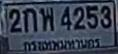2: (8, 8, 20, 32), (73, 6, 84, 29)
3: (100, 5, 111, 28)
4: (60, 6, 70, 30)
5: (85, 5, 97, 28)
A01: (22, 7, 36, 32)
A30: (39, 7, 53, 31)
